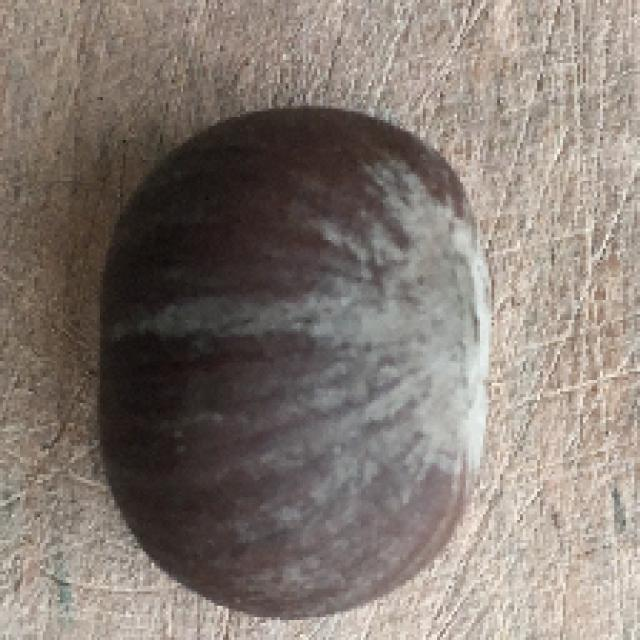damagedHazelnut: (86, 108, 503, 619)
